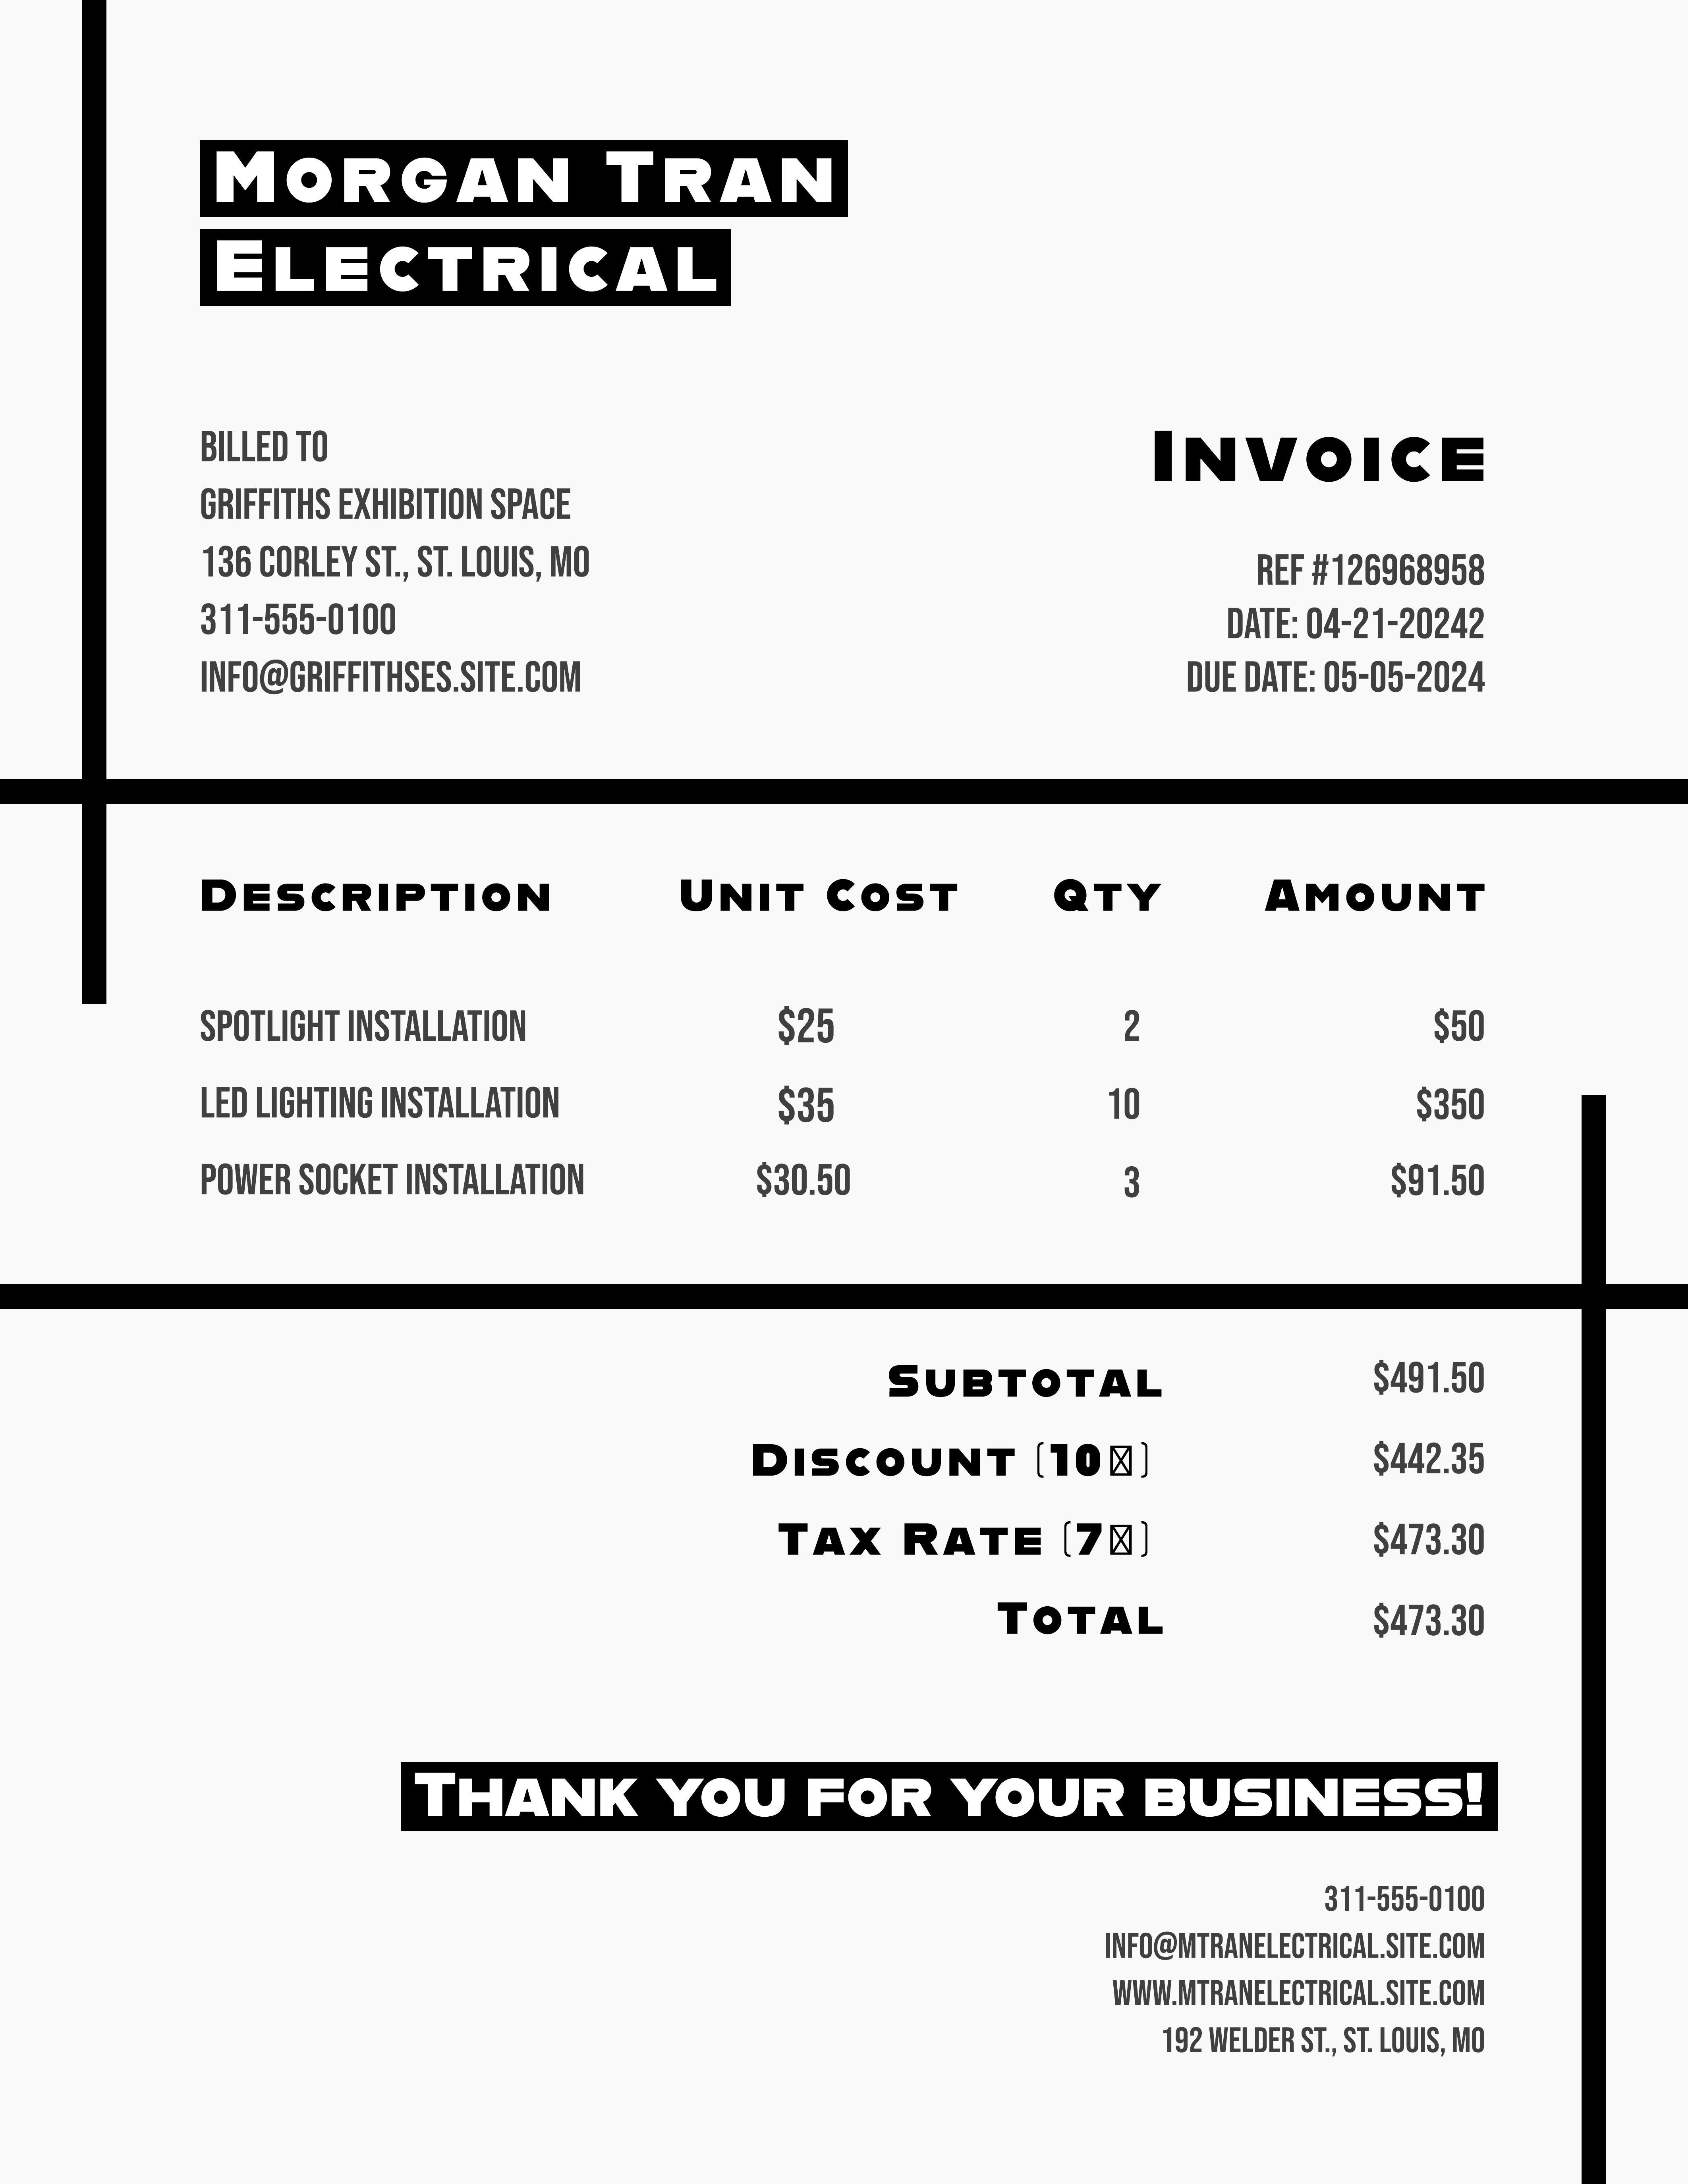ROI: (187, 851, 1533, 1242), (740, 1335, 1526, 1664), (1101, 390, 1587, 744), (183, 410, 685, 725), (188, 127, 867, 316)
